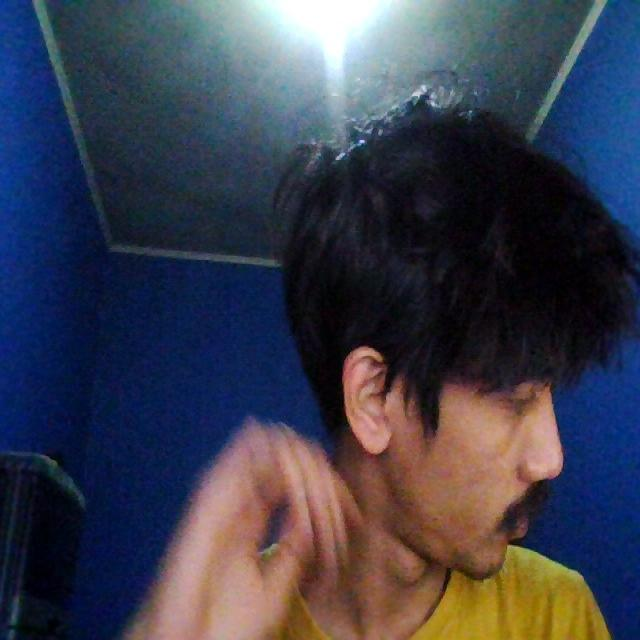melihat kekiri: (264, 100, 636, 555)
movement: (133, 350, 361, 640)
